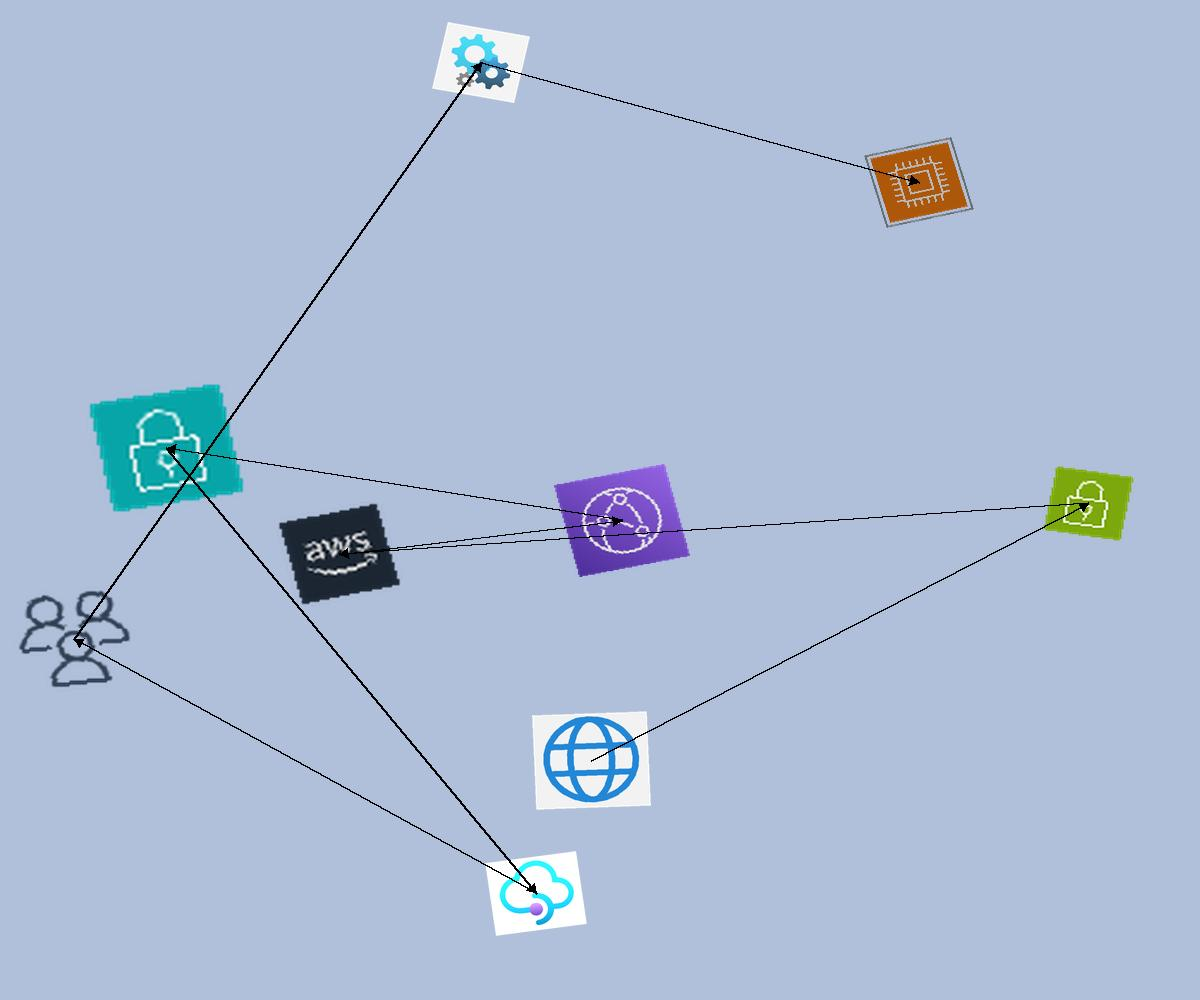AWS-Category_Compute: (864, 137, 974, 228)
AWS-Cloud-logo: (277, 502, 402, 606)
AWS-CloudFront: (554, 464, 690, 577)
AWS-Private-subnet: (87, 382, 246, 514)
AWS-Public-subnet: (1042, 465, 1135, 542)
AWS-Res_Users: (7, 583, 142, 695)
Azure_api: (432, 22, 530, 103)
Azure_api_gateway: (485, 851, 587, 936)
Azure_http: (532, 711, 651, 810)
